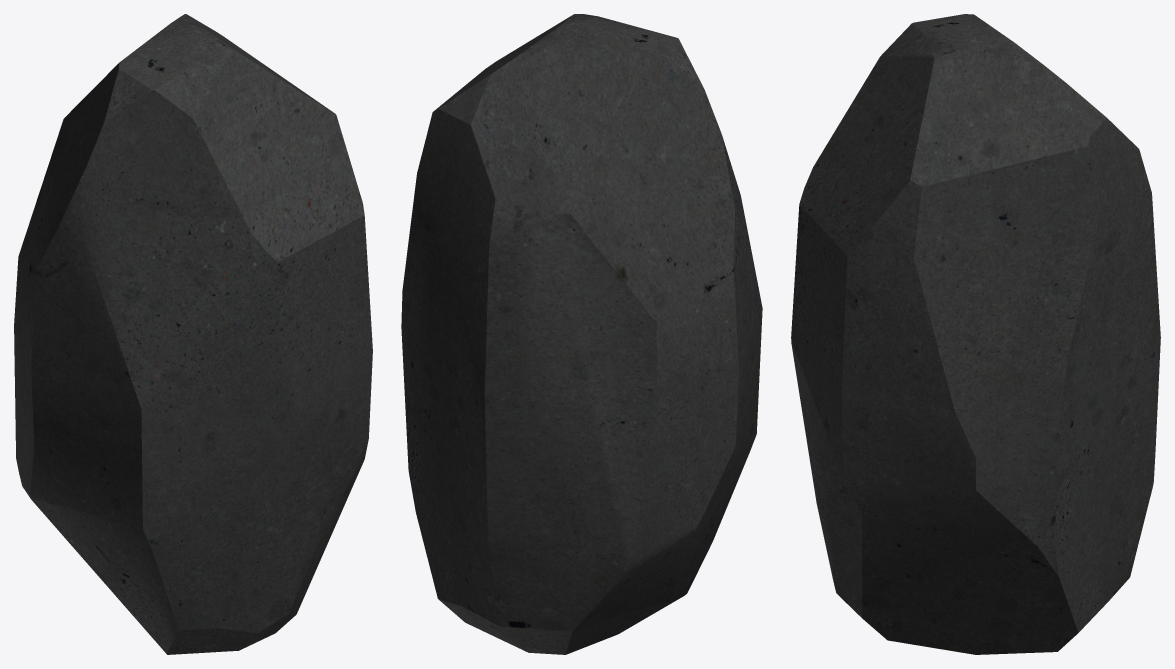
The model's file is Rock2.fbx.
3 views of the same model, side by side, from view 1: azimuth 30°, elevation 25°; view 2: azimuth 150°, elevation 25°; view 3: azimuth 270°, elevation 25° (orthographic).
Parts seen in each view (by area): view 1: Rock2; view 2: Rock2; view 3: Rock2.
Boxes of the visible parts, x1=… form: Rock2: x1=14, y1=14, x2=372, y2=654; Rock2: x1=401, y1=14, x2=762, y2=654; Rock2: x1=791, y1=14, x2=1160, y2=654.
Bounding box in the file's own units: 180 × 325 × 181.
1 material, 1 textured.
